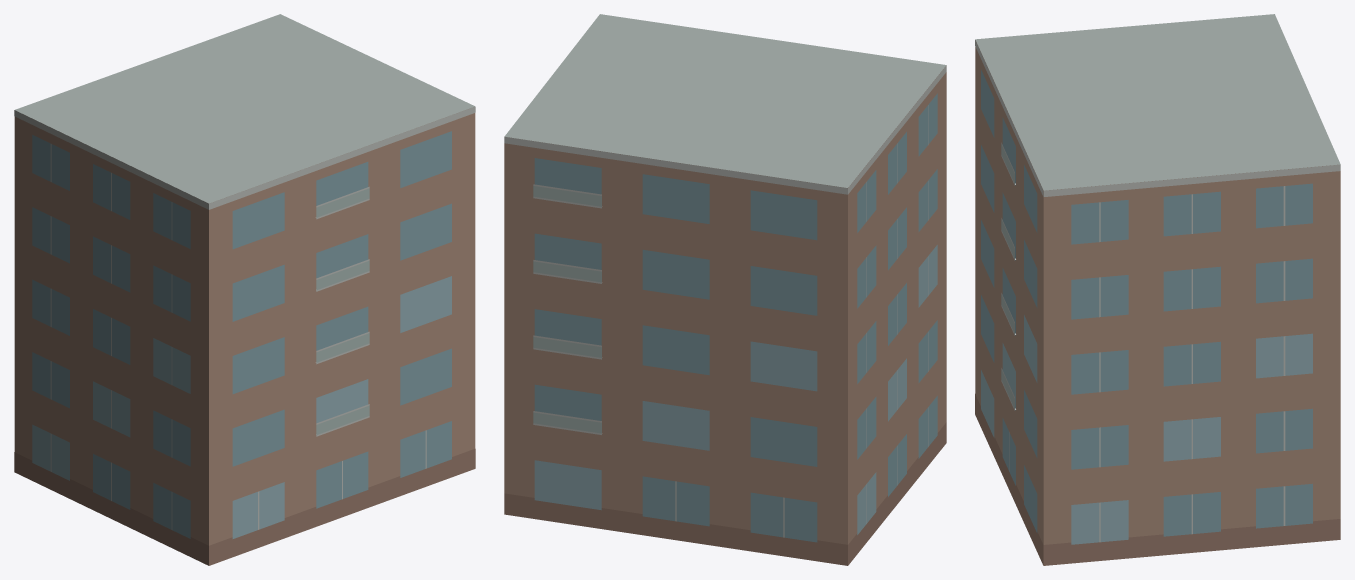
File: survey-upis-32743913.glb
3 renders of one model, left to right at view 1: azimuth 30°, elevation 25°; view 2: azimuth 150°, elevation 25°; view 3: azimuth 270°, elevation 25°, orthographic. The views are drawn at different scales.
Parts seen in each view (by area): view 1: survey-upis-32743913.tmp; view 2: survey-upis-32743913.tmp; view 3: survey-upis-32743913.tmp.
Part boxes in pixels (left/top/right/bottom): survey-upis-32743913.tmp: left=14, top=14, right=475, bottom=565; survey-upis-32743913.tmp: left=504, top=14, right=946, bottom=565; survey-upis-32743913.tmp: left=975, top=14, right=1340, bottom=565.
Bounding box in the file's own units: 14.09 × 13.95 × 12.33.
